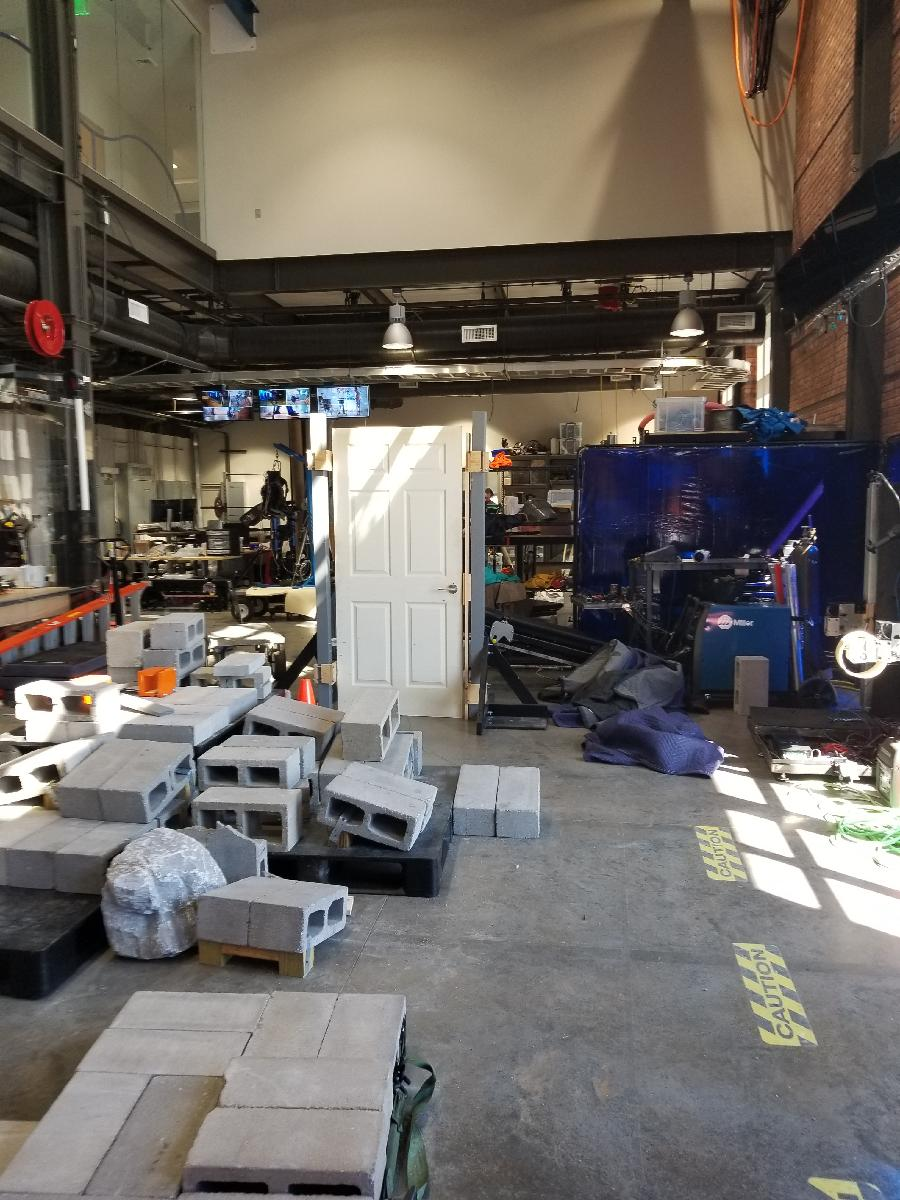door: (331, 419, 468, 729)
doorHandle: (438, 580, 463, 601)
